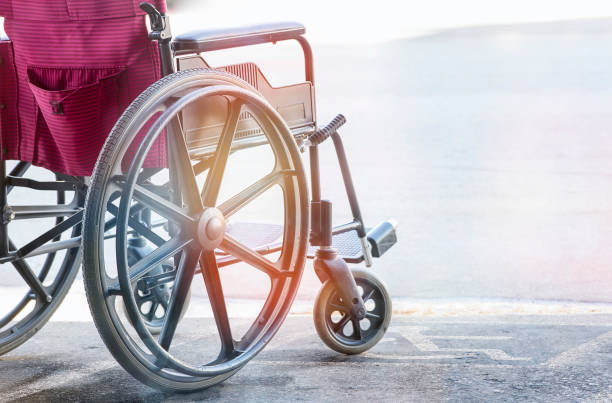wheel_chair: (1, 1, 402, 395)
